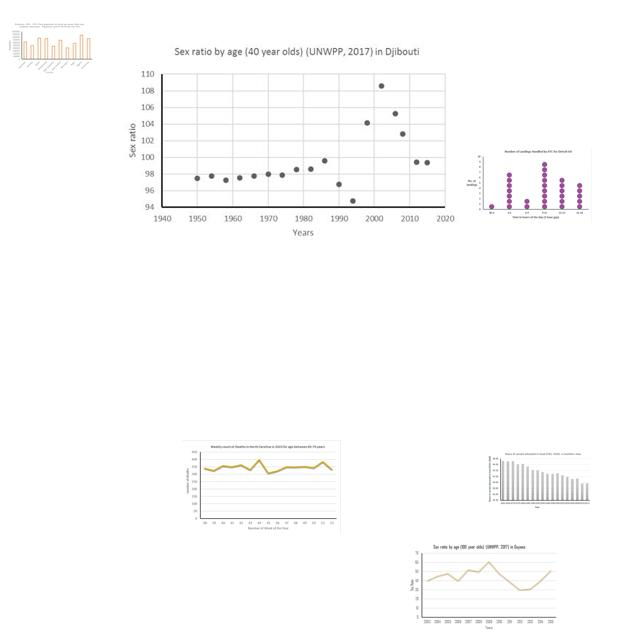Graph: (118, 38, 458, 241), (182, 440, 341, 534), (408, 543, 558, 632), (463, 147, 592, 222), (487, 450, 591, 510), (6, 22, 94, 74)
